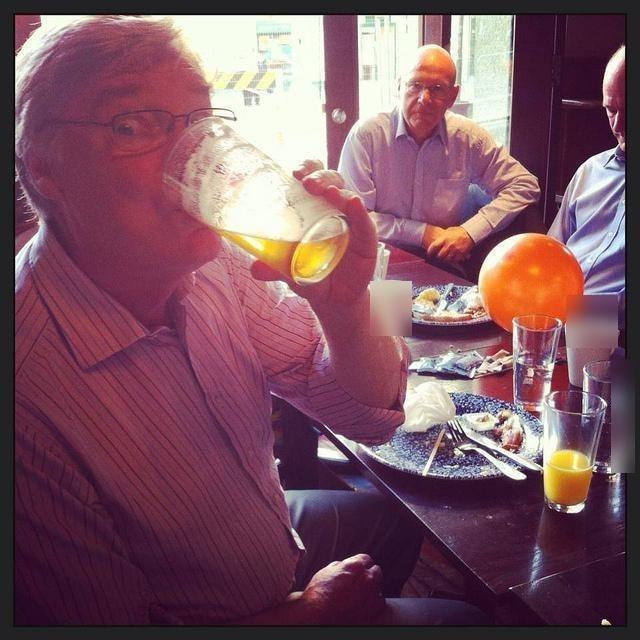glass-normal: (162, 118, 349, 285), (542, 389, 605, 516), (513, 313, 563, 412)
